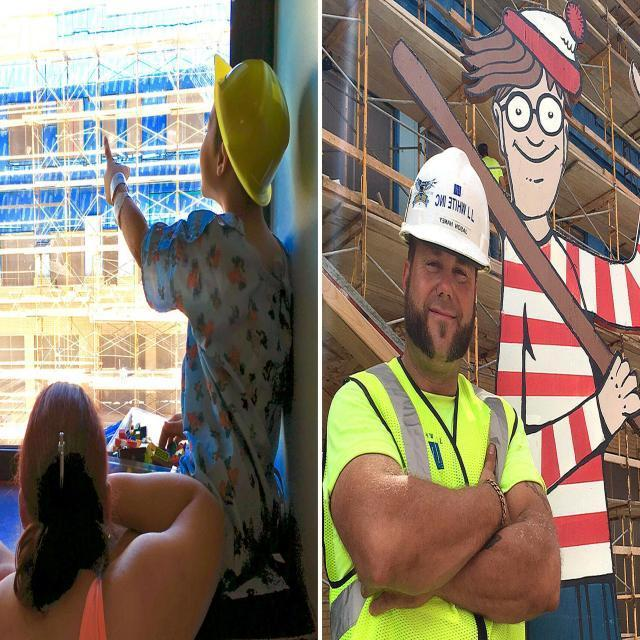capacete: (396, 145, 506, 272)
colete: (323, 357, 546, 640)
pessoa: (320, 144, 572, 640), (85, 43, 307, 599), (0, 381, 234, 640)
